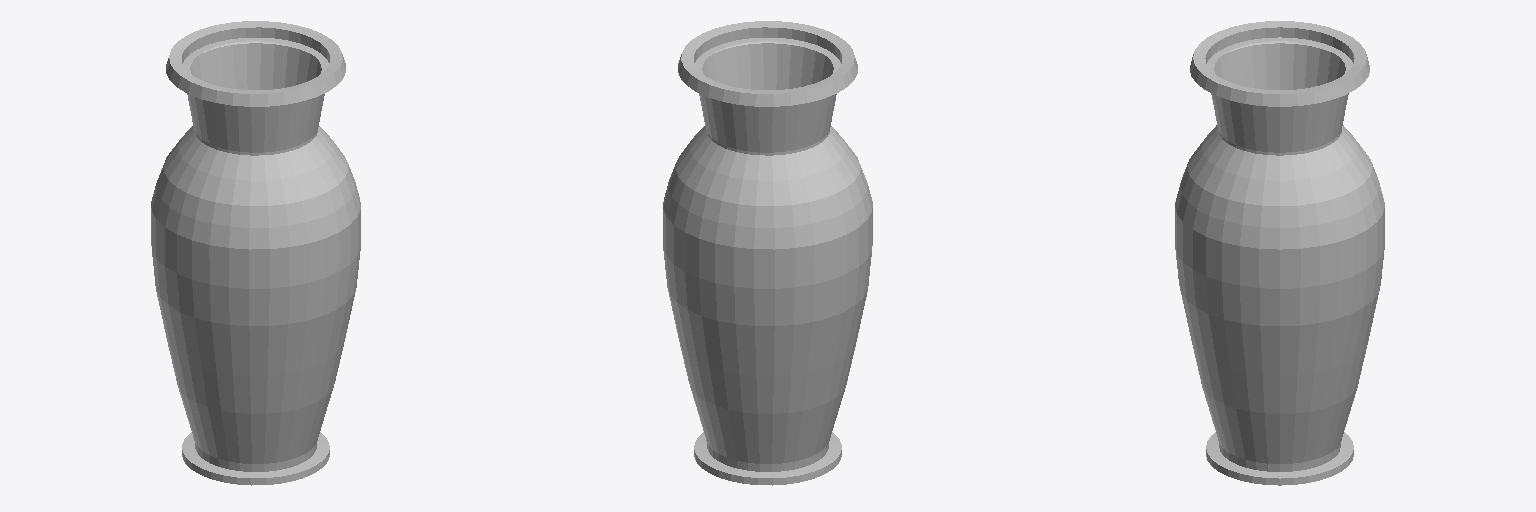
Rendered from vase.obj.
3 renders of one model, left to right at view 1: azimuth 30°, elevation 25°; view 2: azimuth 150°, elevation 25°; view 3: azimuth 270°, elevation 25°, orthographic.
Visible parts, largest first — view 1: Cylinder.001; view 2: Cylinder.001; view 3: Cylinder.001.
Part boxes in pixels (x1,y1,x2,y2): Cylinder.001: (151, 21, 360, 485); Cylinder.001: (663, 21, 872, 485); Cylinder.001: (1175, 21, 1384, 485).
Size of the model in its own units: 8.71 by 18.13 by 8.71.